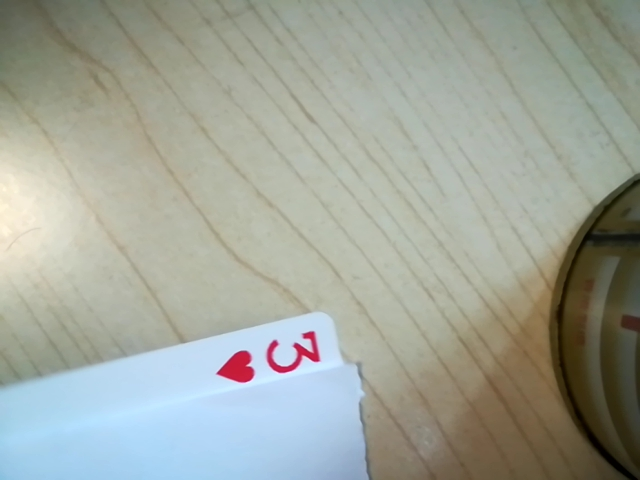hx 3: (215, 328, 333, 389)
